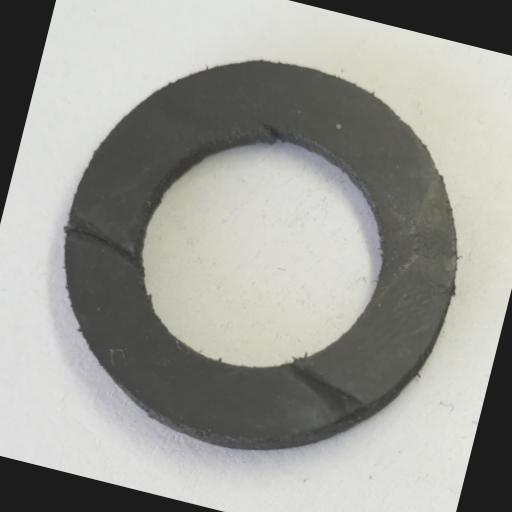defect: (272, 352, 378, 432), (58, 212, 152, 273)
